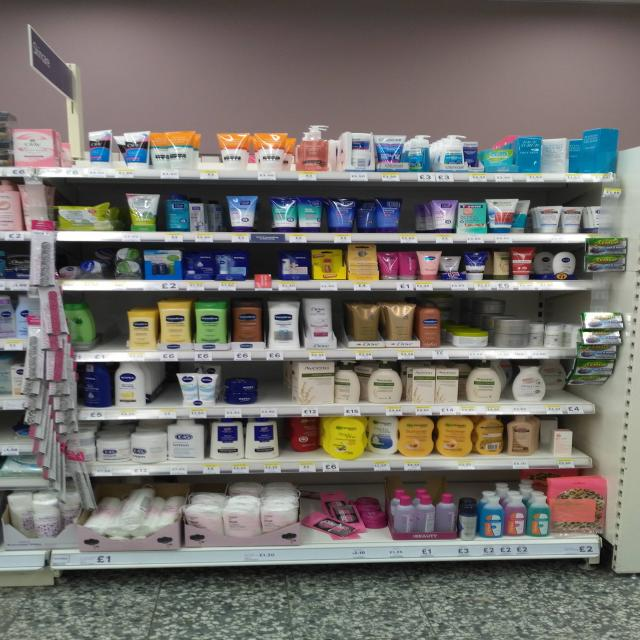empty: (94, 296, 128, 352), (394, 194, 429, 233), (254, 368, 294, 402), (151, 364, 180, 408), (247, 249, 280, 283), (200, 134, 223, 171)
